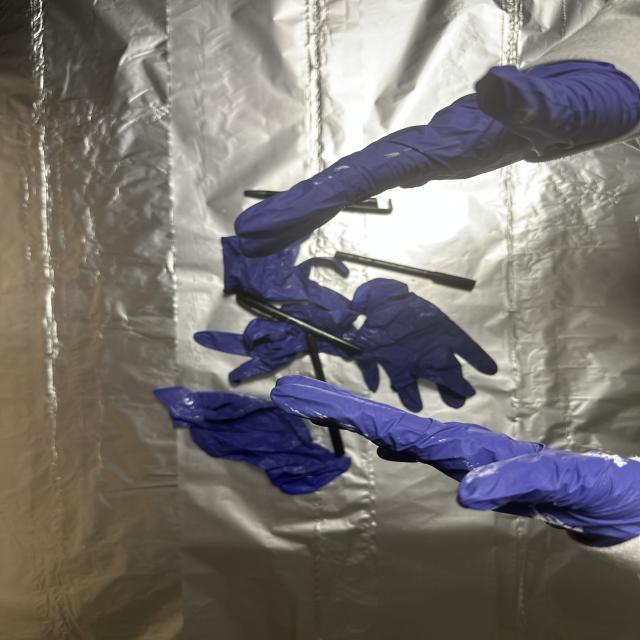gloves_contaminated: (235, 62, 640, 257), (271, 376, 640, 549)
